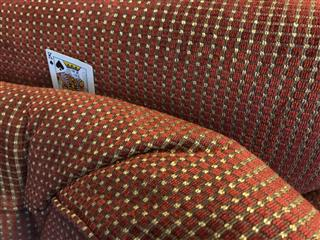KingOfSpades: (45, 48, 94, 94)
